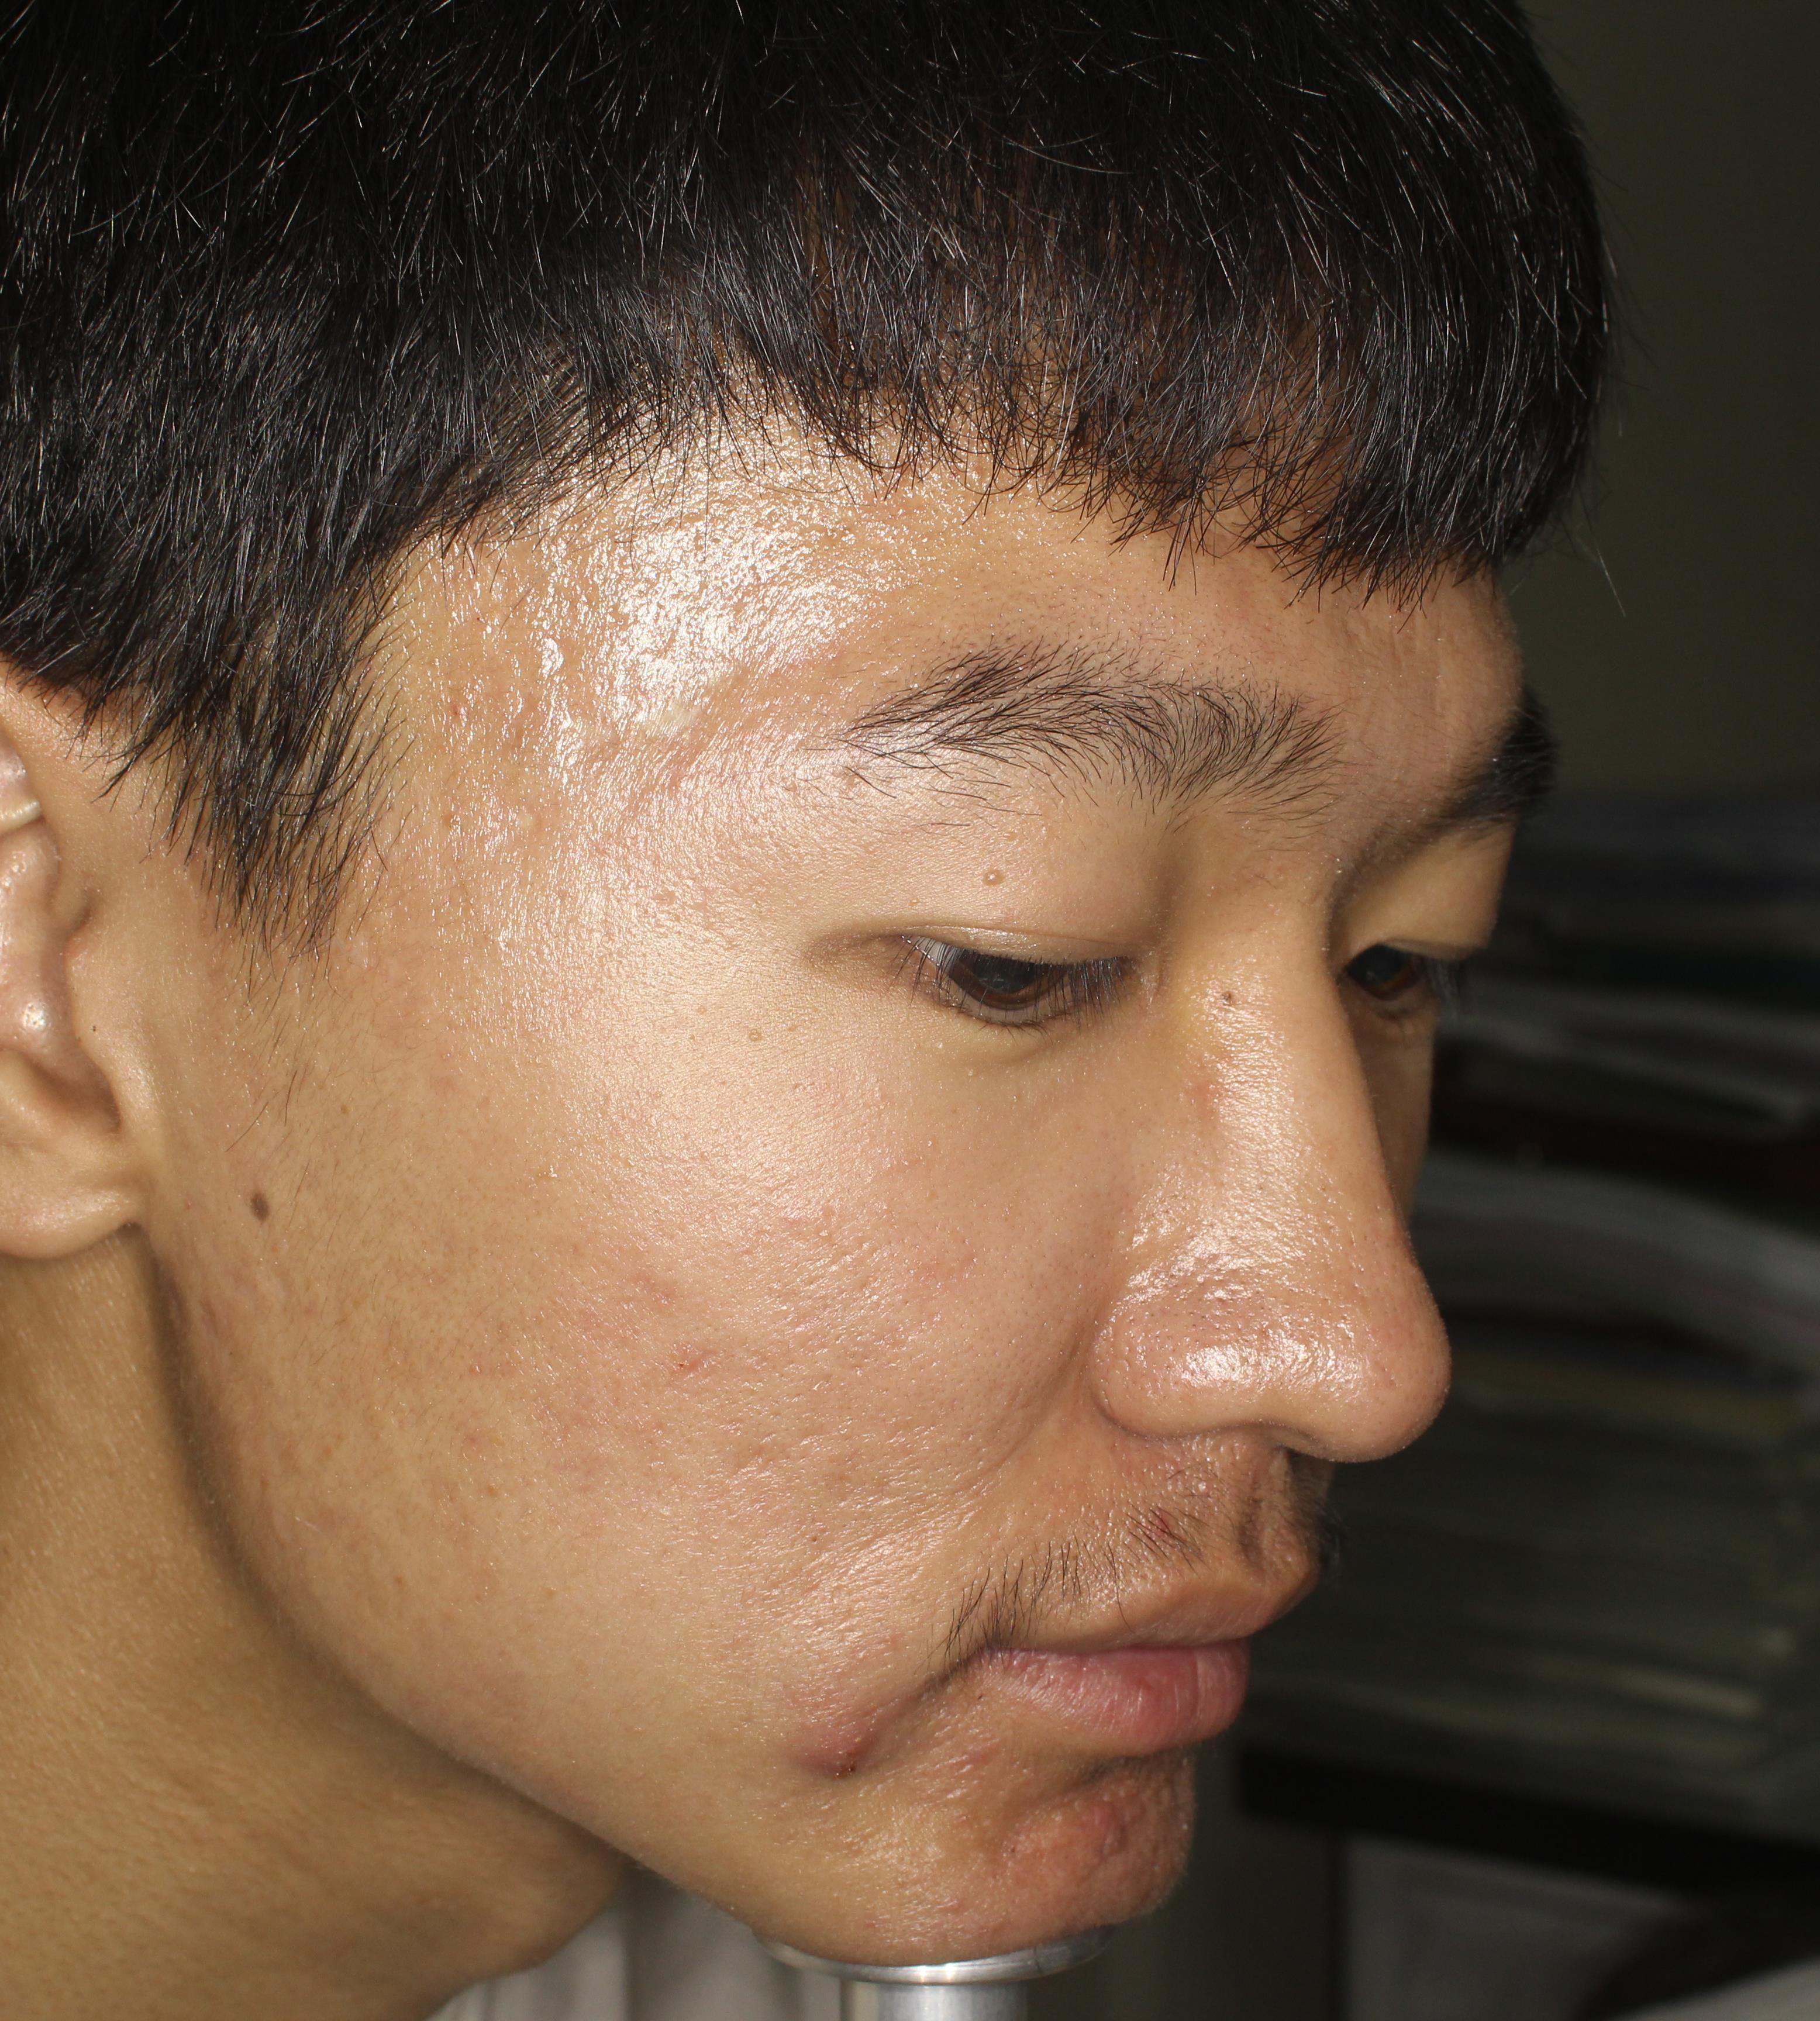fore: (762, 1693, 901, 1814)
